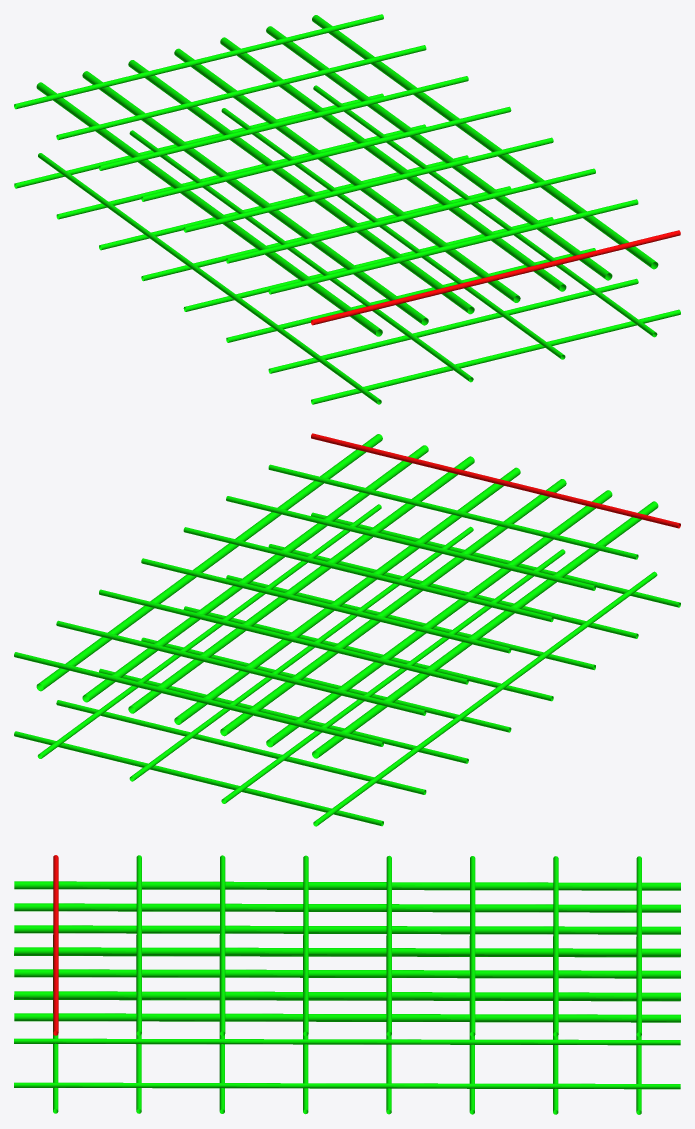
The model's file is highlighted_design_model.obj.
3 views of the same model, one above another, from view 1: azimuth 30°, elevation 25°; view 2: azimuth 150°, elevation 25°; view 3: azimuth 270°, elevation 25° (orthographic).
Parts seen in each view (by area): view 1: rebar_25_PASS, rebar_20_PASS, rebar_24_PASS, rebar_26_PASS, rebar_23_PASS, rebar_22_PASS, rebar_21_PASS, rebar_0_PASS, rebar_18_PASS, rebar_12_MISSING, rebar_15_PASS, rebar_16_PASS (+15 smaller); view 2: rebar_20_PASS, rebar_21_PASS, rebar_26_PASS, rebar_25_PASS, rebar_24_PASS, rebar_23_PASS, rebar_22_PASS, rebar_0_PASS, rebar_15_PASS, rebar_18_PASS, rebar_13_PASS, rebar_12_MISSING (+15 smaller); view 3: rebar_26_PASS, rebar_23_PASS, rebar_24_PASS, rebar_22_PASS, rebar_25_PASS, rebar_20_PASS, rebar_21_PASS, rebar_3_PASS, rebar_2_PASS, rebar_12_MISSING, rebar_18_PASS, rebar_16_PASS (+15 smaller).
Boxes of the visible parts, x1,y1,x2,y2 form: rebar_25_PASS: (266, 26, 612, 280); rebar_20_PASS: (36, 82, 382, 336); rebar_24_PASS: (220, 37, 566, 291); rebar_26_PASS: (312, 15, 658, 269); rebar_23_PASS: (174, 48, 520, 302); rebar_22_PASS: (128, 60, 474, 314); rebar_21_PASS: (82, 71, 428, 325); rebar_0_PASS: (38, 153, 381, 404); rebar_18_PASS: (56, 45, 426, 140); rebar_12_MISSING: (311, 230, 680, 325); rebar_15_PASS: (183, 137, 553, 232); rebar_16_PASS: (141, 106, 511, 201); rebar_20_PASS: (312, 501, 658, 758); rebar_21_PASS: (266, 490, 612, 747); rebar_26_PASS: (36, 434, 382, 691); rebar_25_PASS: (82, 445, 428, 702); rebar_24_PASS: (128, 456, 474, 713); rebar_23_PASS: (174, 467, 520, 724); rebar_22_PASS: (220, 479, 566, 736); rebar_0_PASS: (313, 571, 657, 826); rebar_15_PASS: (183, 527, 553, 622); rebar_18_PASS: (56, 620, 426, 715); rebar_13_PASS: (268, 464, 638, 559); rebar_12_MISSING: (311, 433, 680, 528); rebar_26_PASS: (14, 1013, 680, 1022); rebar_23_PASS: (14, 947, 680, 956); rebar_24_PASS: (14, 969, 680, 978); rebar_22_PASS: (14, 925, 680, 934); rebar_25_PASS: (14, 991, 680, 1000); rebar_20_PASS: (14, 881, 680, 890); rebar_21_PASS: (14, 903, 680, 912); rebar_3_PASS: (14, 1082, 680, 1089); rebar_2_PASS: (14, 1038, 680, 1045); rebar_12_MISSING: (53, 855, 58, 1035); rebar_18_PASS: (553, 856, 558, 1036); rebar_16_PASS: (386, 855, 391, 1036).
Size of the model in its own units: 1 by 0.2229 by 1.6.
